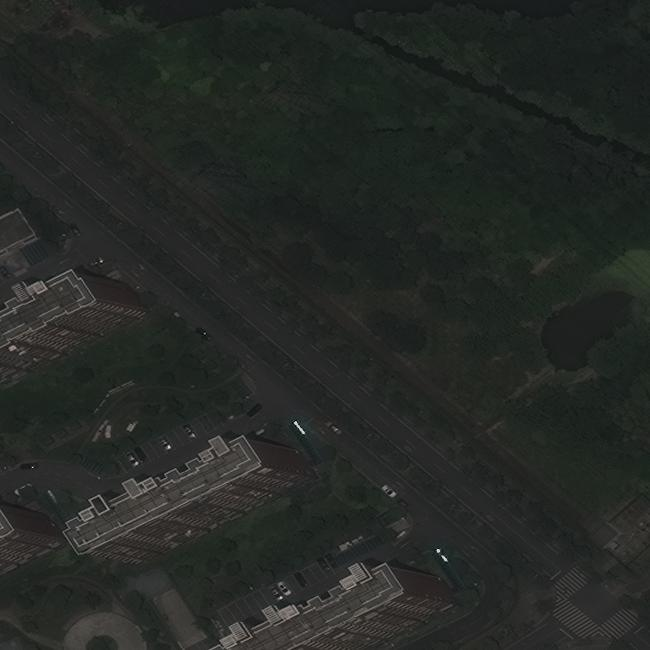parking lot: (115, 414, 207, 474)
